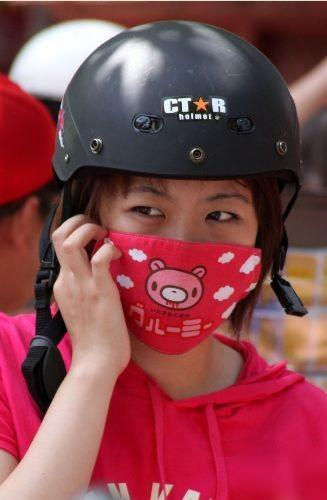OK: (98, 182, 267, 346)
